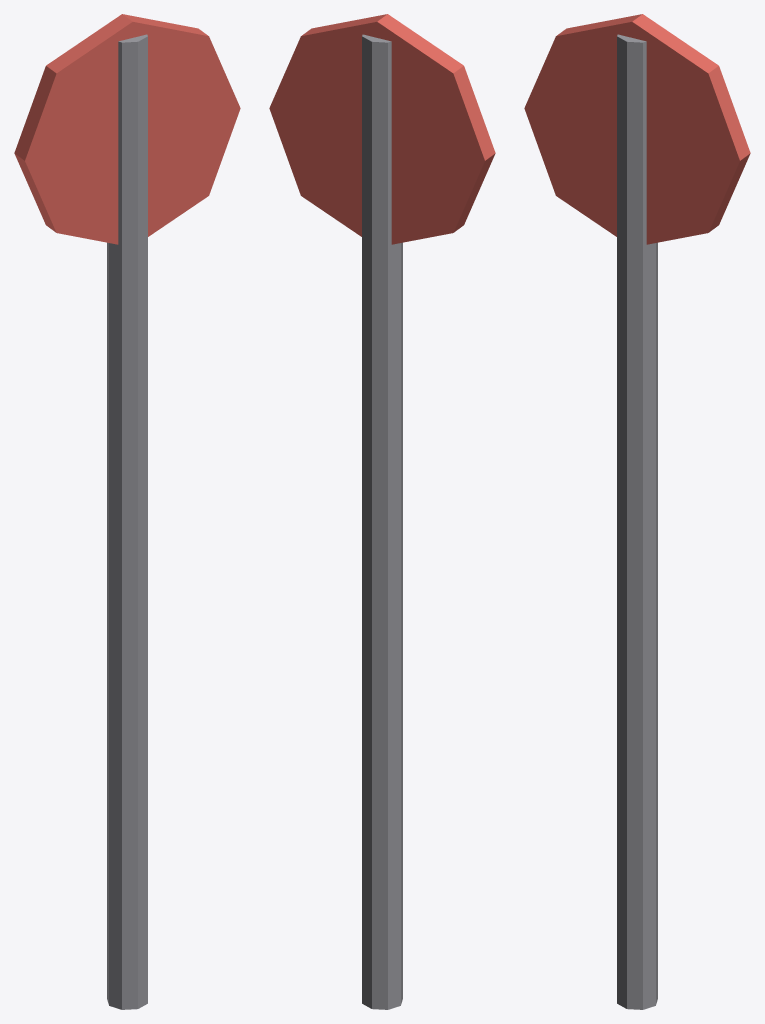
File: stop_sign.glb
3 renders of one model, left to right at view 1: azimuth 30°, elevation 25°; view 2: azimuth 150°, elevation 25°; view 3: azimuth 330°, elevation 25°, orthographic.
Visible parts, largest first — view 1: post, plate; view 2: post, plate; view 3: post, plate.
Part boxes in pixels (x1=…): post: x1=107, y1=34, x2=147, y2=1009; plate: x1=14, y1=14, x2=240, y2=244; post: x1=362, y1=34, x2=402, y2=1009; plate: x1=269, y1=14, x2=495, y2=244; post: x1=617, y1=34, x2=657, y2=1009; plate: x1=524, y1=14, x2=750, y2=244.
Bounding box in the file's own units: 0.7002 × 3.05 × 0.1191.
